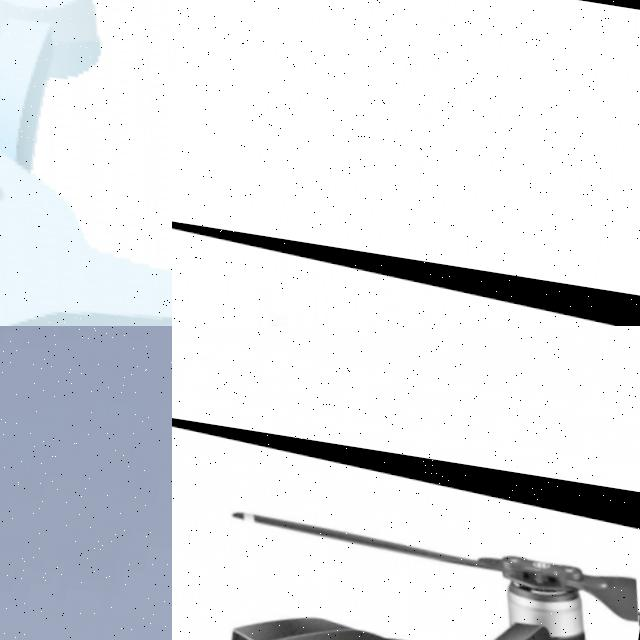drone: (172, 395, 640, 640), (172, 202, 640, 326), (0, 0, 172, 326)
